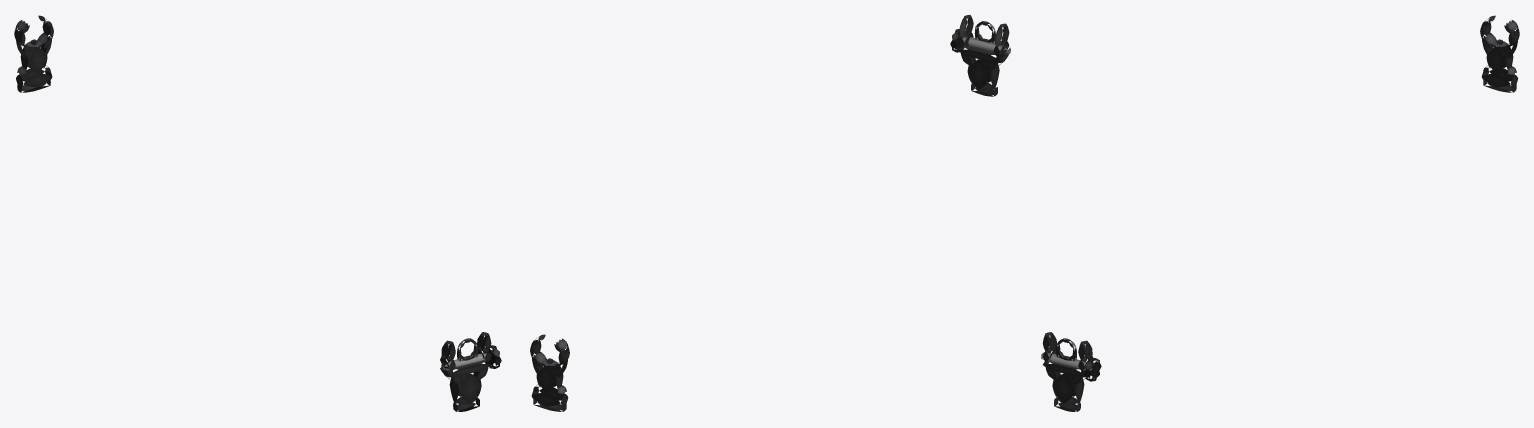
File: udp_9_sight.fbx
The picture shows the model from 3 angles, left to right: view 1: azimuth 30°, elevation 25°; view 2: azimuth 150°, elevation 25°; view 3: azimuth 330°, elevation 25°; orthographic projection.
Visible parts, largest first — view 1: cube, cube_12, cube_16; view 2: cube, cube_12, cube_1, cube_16; view 3: cube, cube_12, cube_16.
Part boxes in pixels (left/top/right/bottom): cube: left=449, top=369, right=481, bottom=403; cube_12: left=20, top=41, right=47, bottom=73; cube_16: left=16, top=68, right=52, bottom=87; cube: left=967, top=55, right=999, bottom=89; cube_12: left=536, top=360, right=563, bottom=392; cube_1: left=958, top=44, right=1008, bottom=61; cube_16: left=531, top=387, right=568, bottom=406; cube: left=1052, top=369, right=1084, bottom=403; cube_12: left=1486, top=41, right=1513, bottom=73; cube_16: left=1481, top=68, right=1518, bottom=87.
Bounding box in the file's own units: 6.45 × 8.74 × 92.68.
Materials: 1 (1 with a texture image).
